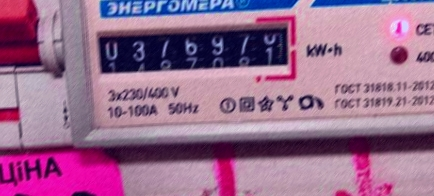0: (104, 38, 120, 61)
1: (263, 45, 276, 66)
3: (131, 39, 148, 62)
6: (183, 32, 200, 56)
7: (156, 35, 173, 58), (237, 32, 253, 55)
9: (209, 32, 226, 56)
screen: (87, 10, 302, 96)
